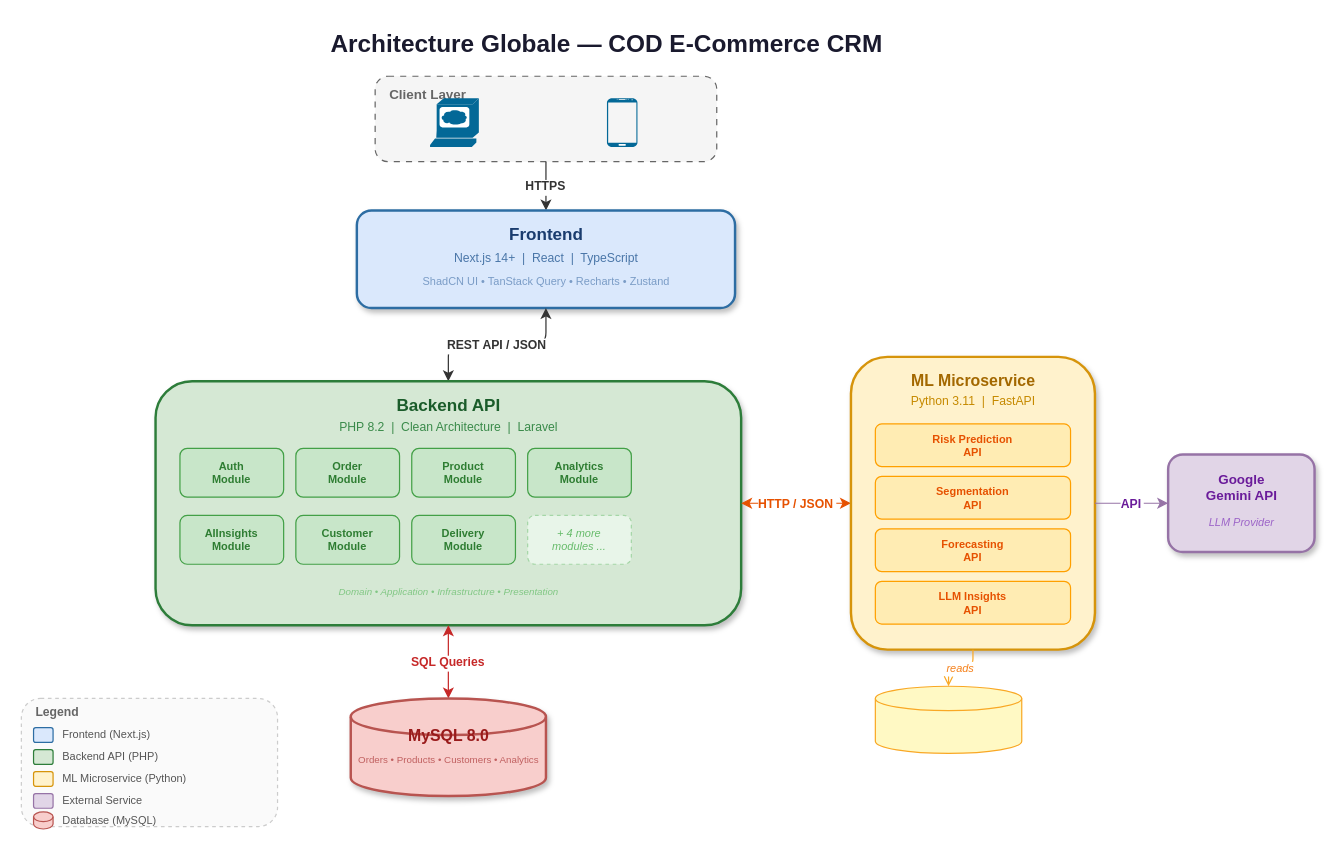
This 1344x850 diagram has some shape labels left out. Each missing label, with the centre of its shape:
Mobile App: the point at 621,122
Trained Models (.joblib / .pkl): the point at 948,719
Web Browser: the point at 453,122
